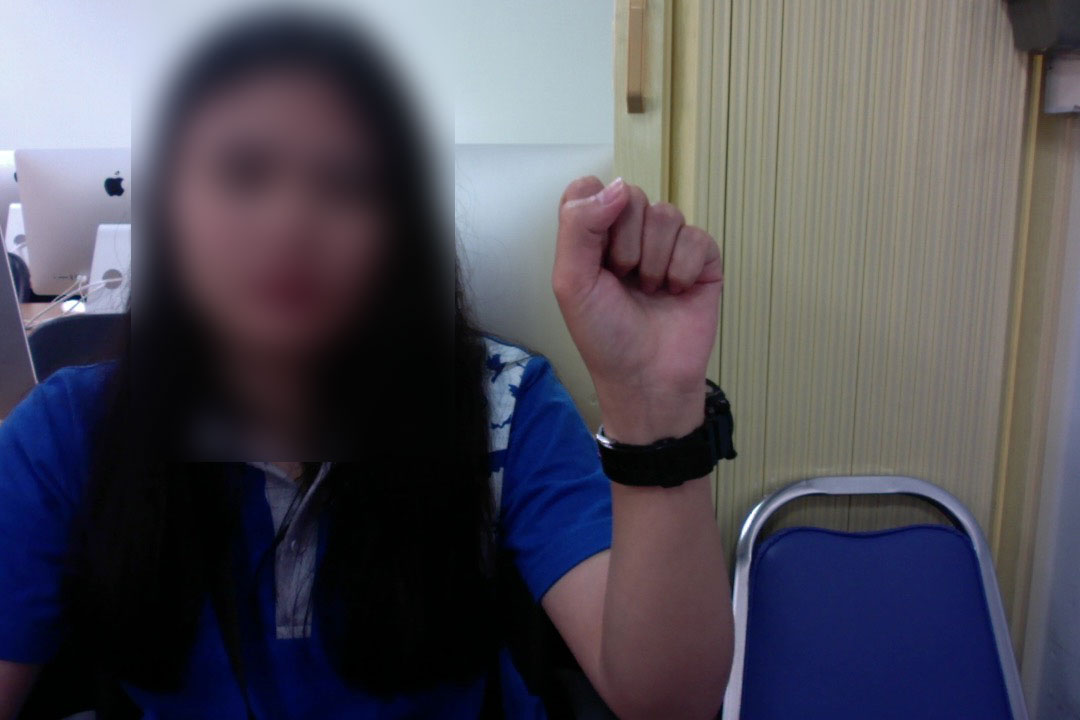sor: (542, 164, 729, 418)
